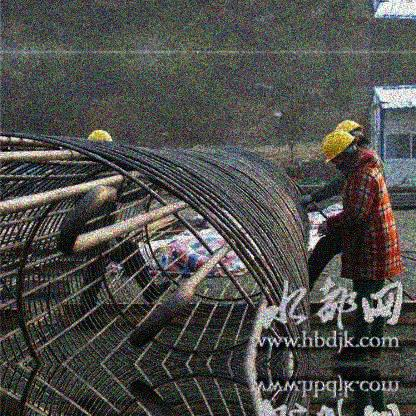helmet: (322, 132, 355, 173), (336, 120, 363, 143)
